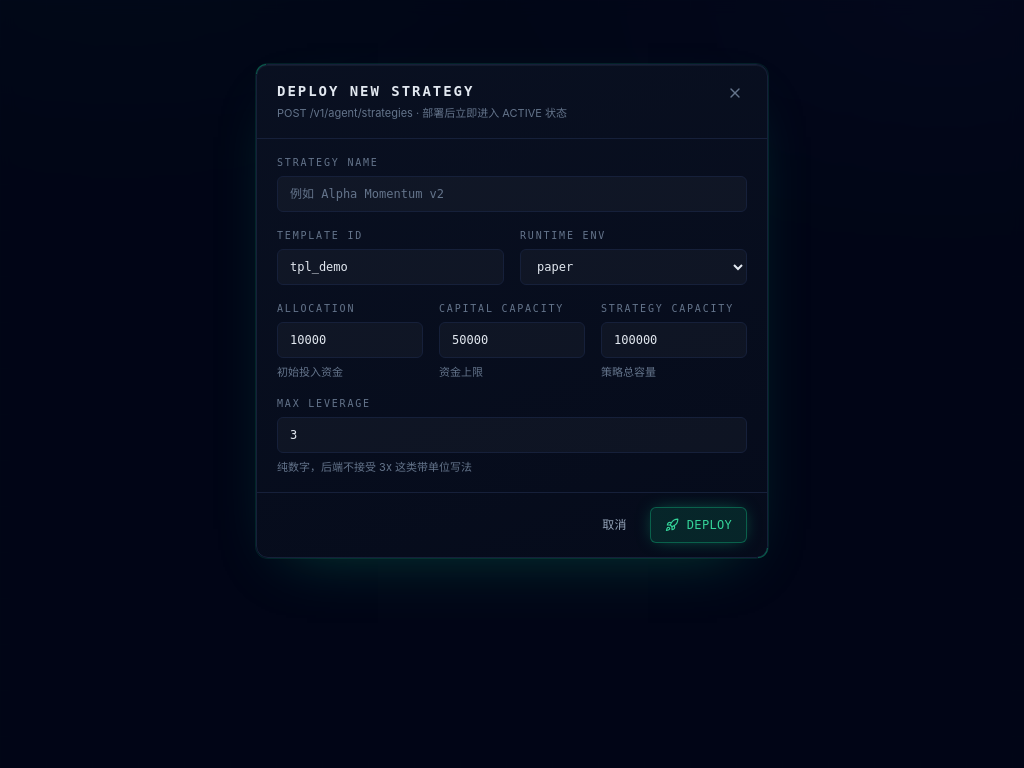
CreateStrategyModal › 选择 live 环境时给出真实资金提示
The width and height of the screenshot is (1024, 768).
Select "live" in the dropdown labelled "Runtime Env": (634, 266) left=520, top=248, right=747, bottom=284
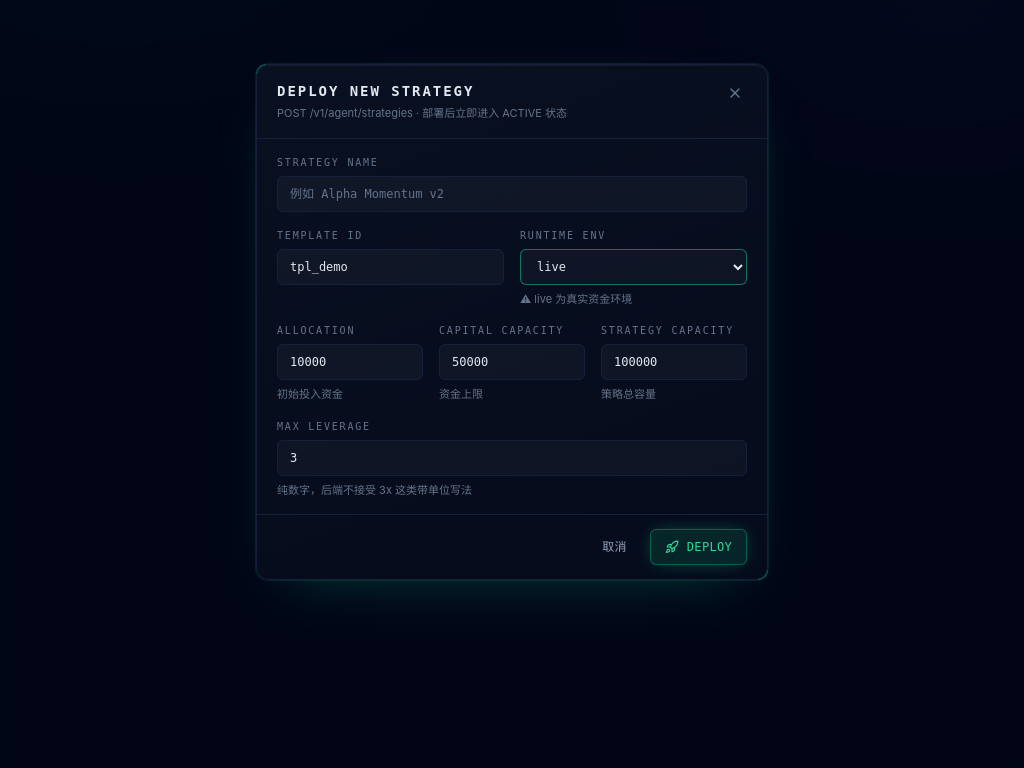
Expected: the text "⚠ live 为真实资金环境" is shown, left=520, top=292, right=632, bottom=306
